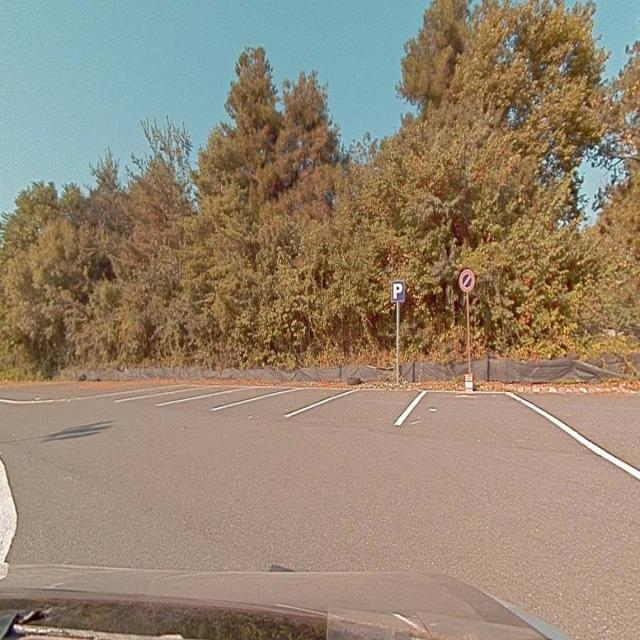park: (393, 282, 403, 300)
parkyasak: (459, 270, 474, 291)
